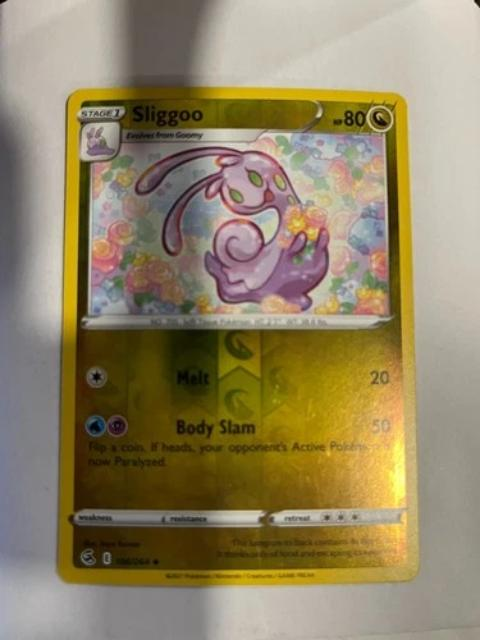Card: (51, 82, 426, 591)
Name: (124, 97, 202, 129)
